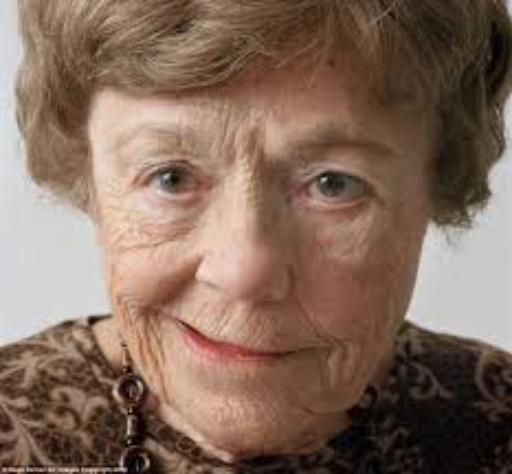left_eye: (296, 172, 382, 207)
left_lip_corner: (283, 341, 320, 363)
right_eye: (137, 167, 213, 200)
right_lip_corner: (165, 314, 197, 337)
